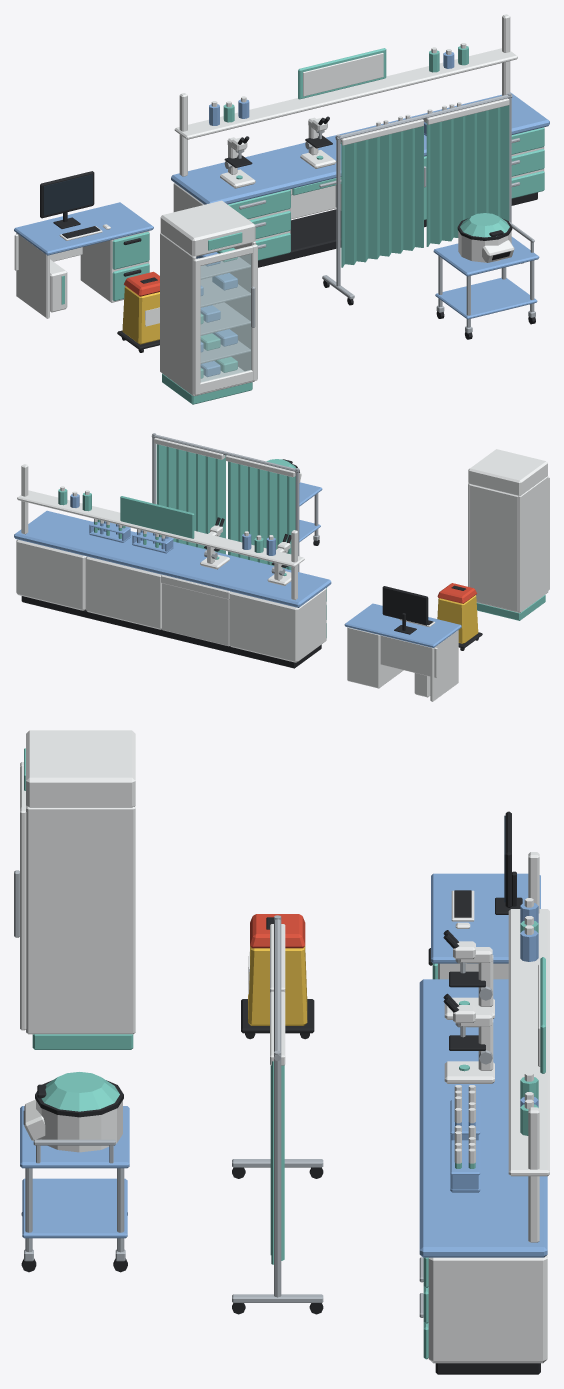
Rendered from hospital-lab-set.glb.
3 views of the same model, one above another, from view 1: azimuth 30°, elevation 25°; view 2: azimuth 150°, elevation 25°; view 3: azimuth 270°, elevation 25° (orthographic). The views are drawn at different scales.
Parts seen in each view (by area): view 1: Curtain_L, Curtain_R, Bench_Top, Fridge_Door_Glass, Fridge_Side_L, Bench_Shelf, Desk_Top, Fridge_Header, Bench_Plinth, Trolley_LowerShelf, Desk_LegPanel, Bench_Sign_Face (+35 smaller); view 2: Bench_Top, Fridge_Back, Bench_Pedestal_L, Curtain_L, Curtain_R, Bench_Cupboard, Bench_Pedestal_R, Fridge_Side_L, Bench_KneePanel, Bench_Shelf, Fridge_Header, Desk_Top (+17 smaller); view 3: Fridge_Side_R, Bench_Top, Bench_Pedestal_R, Fridge_Header, Bench_Shelf, Trolley_LowerShelf, Desk_Top, Sharps_Body, Trolley_Top, Centrifuge_Body, Centrifuge_Lid, Curtain_Post.001 (+10 smaller).
Part boxes in pixels (left/top/right/bottom): Curtain_L: left=341, top=126, right=423, bottom=267; Curtain_R: left=426, top=105, right=509, bottom=246; Bench_Top: left=171, top=92, right=549, bottom=204; Fridge_Door_Glass: left=200, top=254, right=251, bottom=382; Fridge_Side_L: left=160, top=233, right=196, bottom=396; Bench_Shelf: left=174, top=48, right=517, bottom=139; Desk_Top: left=14, top=202, right=153, bottom=255; Fridge_Header: left=160, top=200, right=255, bottom=256; Bench_Plinth: left=258, top=192, right=537, bottom=267; Trolley_LowerShelf: left=435, top=277, right=537, bottom=319; Desk_LegPanel: left=16, top=233, right=49, bottom=318; Bench_Sign_Face: left=303, top=53, right=383, bottom=96; Bench_Top: left=14, top=510, right=331, bottom=607; Fridge_Back: left=470, top=484, right=518, bottom=611; Bench_Pedestal_L: left=229, top=588, right=326, bottom=662; Curtain_L: left=228, top=461, right=295, bottom=569; Curtain_R: left=156, top=444, right=225, bottom=554; Bench_Cupboard: left=85, top=556, right=161, bottom=629; Bench_Pedestal_R: left=16, top=539, right=86, bottom=610; Fridge_Side_L: left=518, top=476, right=548, bottom=612; Bench_KneePanel: left=162, top=583, right=229, bottom=646; Bench_Shelf: left=17, top=490, right=304, bottom=567; Fridge_Header: left=468, top=449, right=547, bottom=495; Desk_Top: left=344, top=603, right=461, bottom=647; Fridge_Side_R: left=26, top=806, right=135, bottom=1034; Bench_Top: left=419, top=979, right=547, bottom=1257; Bench_Pedestal_R: left=428, top=1255, right=547, bottom=1363; Fridge_Header: left=26, top=730, right=135, bottom=807; Bench_Shelf: left=508, top=909, right=549, bottom=1176; Trolley_LowerShelf: left=22, top=1178, right=127, bottom=1238; Desk_Top: left=431, top=873, right=540, bottom=963; Sharps_Body: left=248, top=946, right=307, bottom=1025; Trolley_Top: left=20, top=1106, right=129, bottom=1168; Centrifuge_Body: left=36, top=1100, right=122, bottom=1152; Centrifuge_Lid: left=41, top=1072, right=119, bottom=1111; Curtain_Post.001: left=274, top=1050, right=281, bottom=1297.
Bounding box in the file's own units: 20.55 × 6.57 × 11.71.
